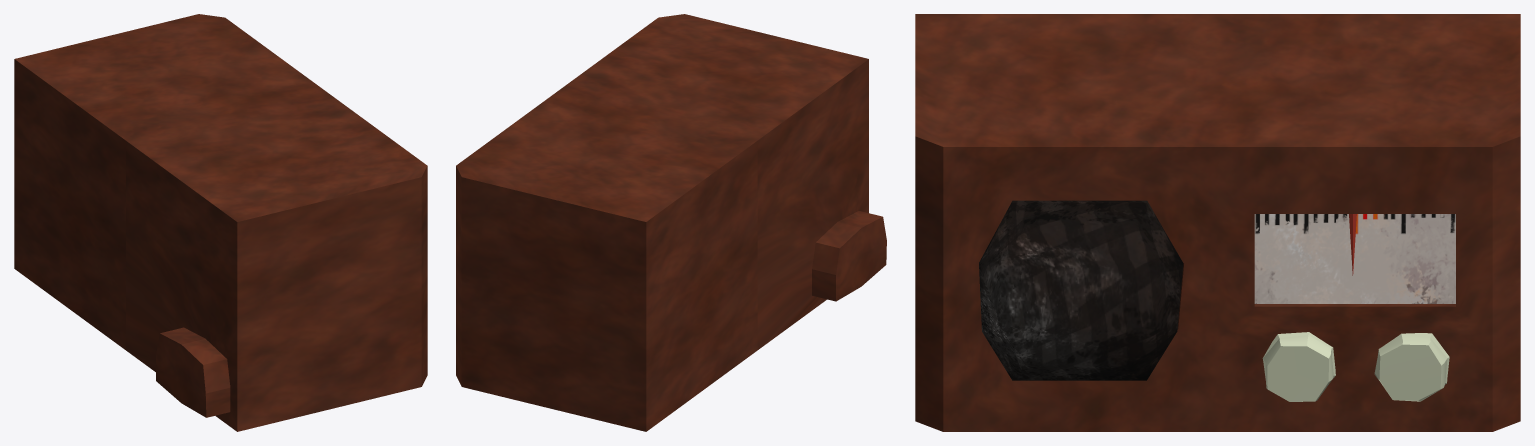
Rendered from Radio_Full_Textured.fbx.
3 views of the same model, side by side, from view 1: azimuth 30°, elevation 25°; view 2: azimuth 150°, elevation 25°; view 3: azimuth 270°, elevation 25° (orthographic). The views are drawn at different scales.
Parts seen in each view (by area): view 1: Radio; view 2: Radio; view 3: Radio, Dial1, Dial2.
Boxes of the visible parts, x1=… form: Radio: x1=14, y1=14, x2=427, y2=431; Radio: x1=456, y1=14, x2=886, y2=431; Radio: x1=915, y1=14, x2=1520, y2=431; Dial1: x1=1262, y1=332, x2=1335, y2=401; Dial2: x1=1374, y1=333, x2=1449, y2=401.
Bounding box in the file's own units: 66.89 × 40.8 × 34.74.
